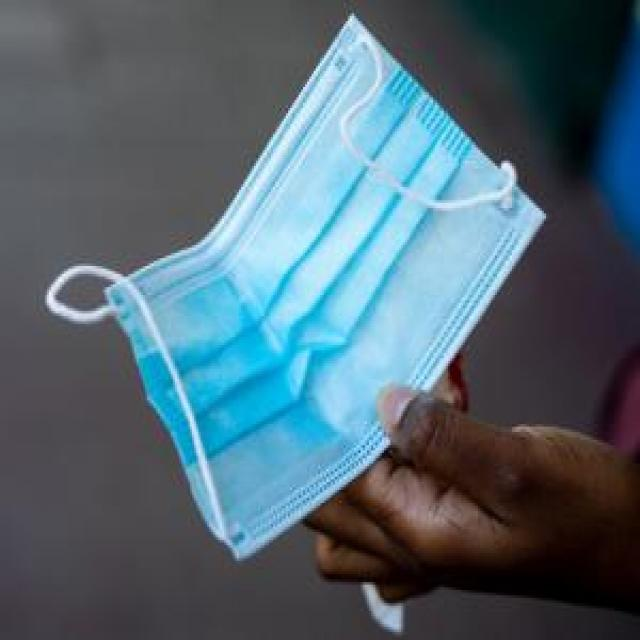non-organic waste: (58, 24, 548, 579)
